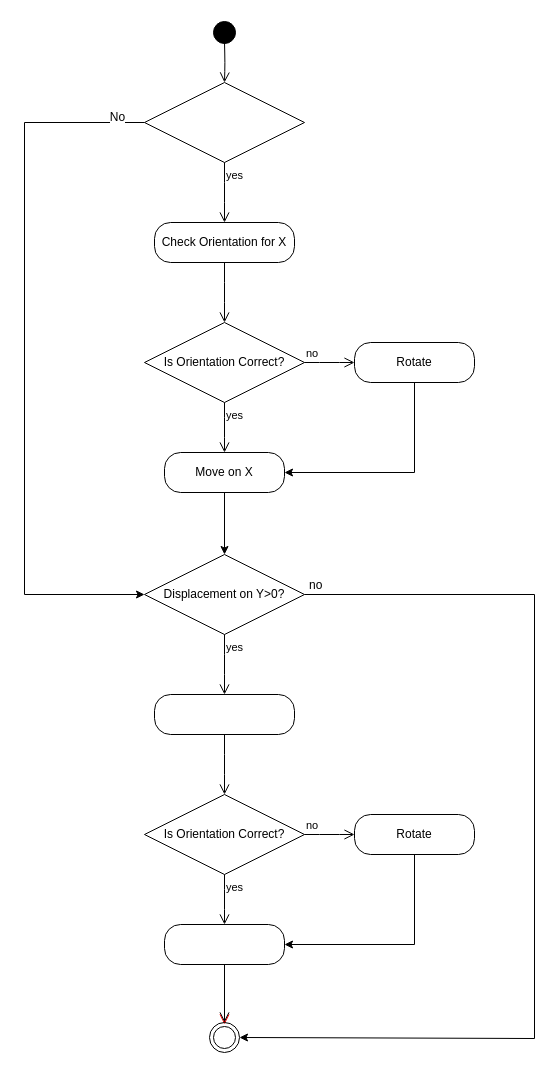
This 560x1070 diagram has some shape labels left out. The shapes that lost their labels are listed below. From the top down, each one's box as (x1, y1, x2, y2) in pixels, then its label:
(144, 82, 304, 162): Displacement on X>0?
(154, 694, 294, 734): Check Orientation for Y
(164, 924, 284, 964): Move on Y
